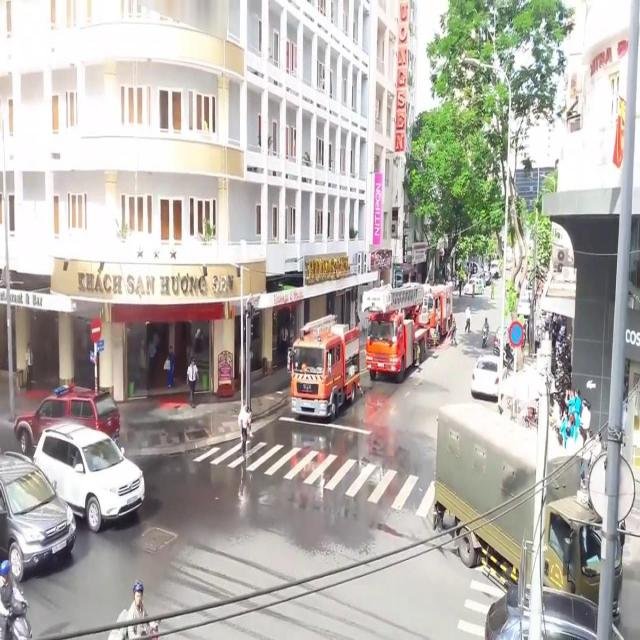car: (33, 420, 140, 528), (0, 450, 74, 577), (470, 353, 504, 400)
motorcycle: (0, 557, 34, 638)
truck: (433, 400, 623, 624), (291, 312, 361, 420), (362, 289, 430, 379), (419, 279, 453, 346)
